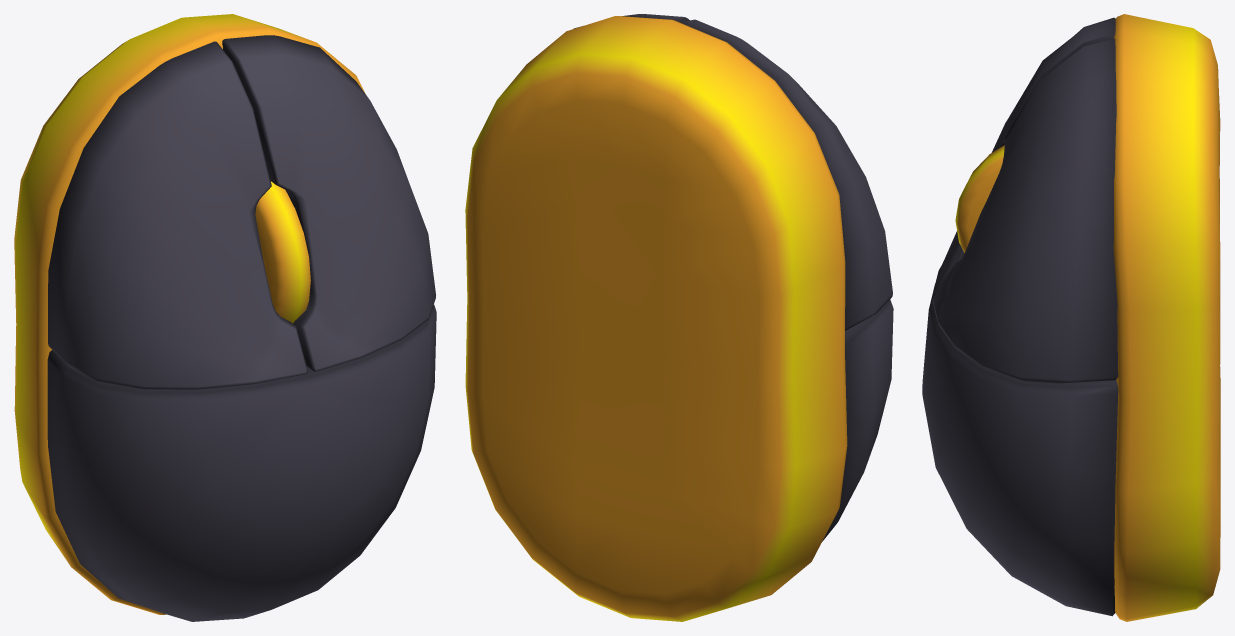
File: mouse.fbx
The picture shows the model from 3 angles, left to right: view 1: azimuth 30°, elevation 25°; view 2: azimuth 150°, elevation 25°; view 3: azimuth 270°, elevation 25°; orthographic projection.
Visible parts, largest first — view 1: mouse; view 2: mouse; view 3: mouse.
Part boxes in pixels (x1=…): mouse: x1=14, y1=14, x2=436, y2=621; mouse: x1=465, y1=14, x2=893, y2=621; mouse: x1=922, y1=14, x2=1220, y2=621.
Size of the model in its own units: 0.6425 by 1.01 by 0.4768.
